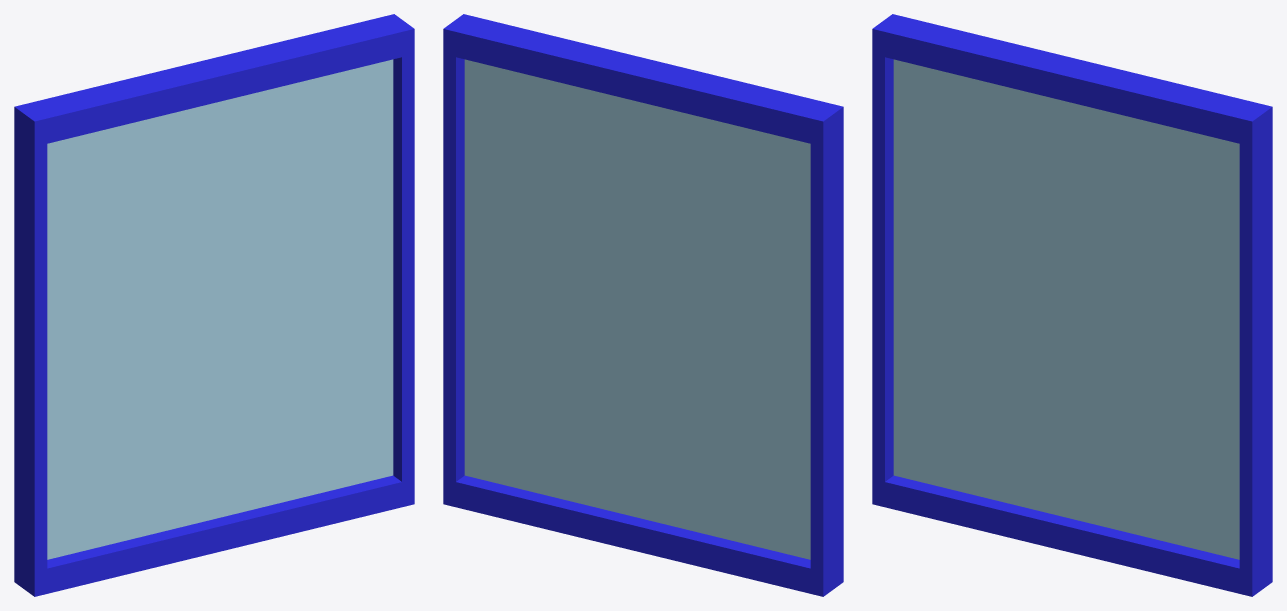
Rendered from Slide_Window.gltf.
3 renders of one model, left to right at view 1: azimuth 30°, elevation 25°; view 2: azimuth 150°, elevation 25°; view 3: azimuth 330°, elevation 25°, orthographic.
Parts seen in each view (by area): view 1: Slide_Window; view 2: Slide_Window; view 3: Slide_Window.
Part boxes in pixels (x1,y1,x2,y2): Slide_Window: [14, 14, 414, 596]; Slide_Window: [443, 14, 843, 596]; Slide_Window: [872, 14, 1272, 596].
Bounding box in the file's own units: 3.38 × 4.05 × 0.3132.
